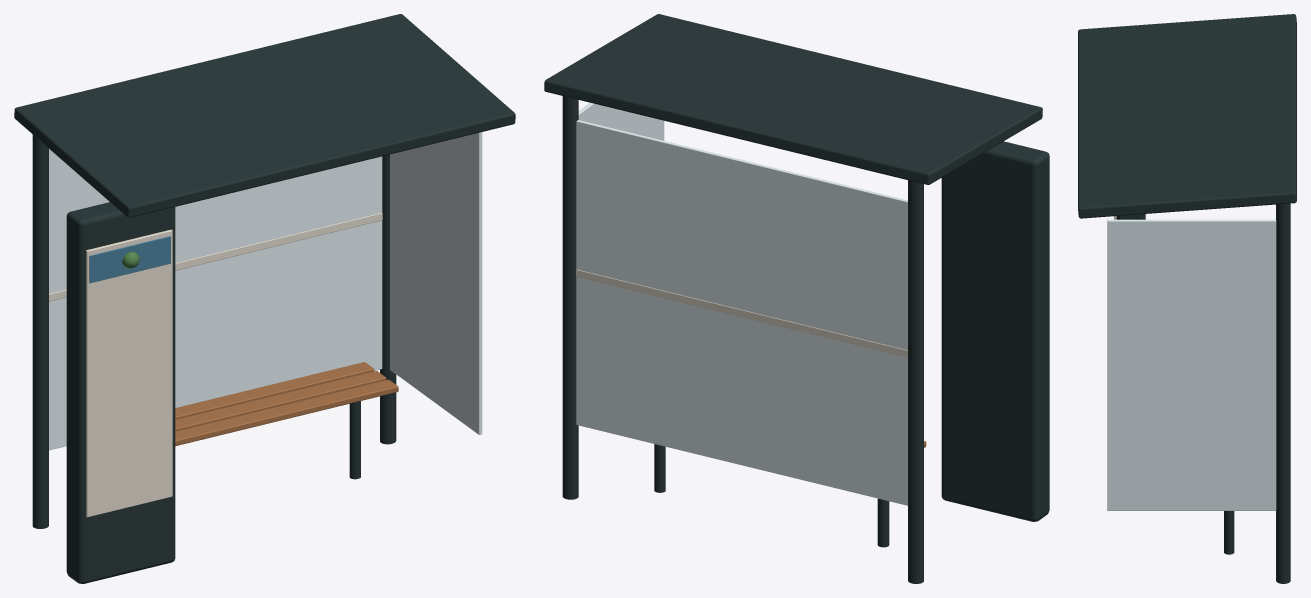
File: wp-abribus.glb
The picture shows the model from 3 angles, left to right: view 1: azimuth 30°, elevation 25°; view 2: azimuth 150°, elevation 25°; view 3: azimuth 270°, elevation 25°; orthographic projection. The views are drawn at different scales.
Parts seen in each view (by area): view 1: wp-abribus; view 2: wp-abribus; view 3: wp-abribus.
Part boxes in pixels (x1,y1,x2,y2): wp-abribus: (14, 14, 515, 583); wp-abribus: (544, 14, 1049, 583); wp-abribus: (1078, 14, 1296, 583).
Size of the model in its own units: 2.5 by 2.4 by 1.2.
